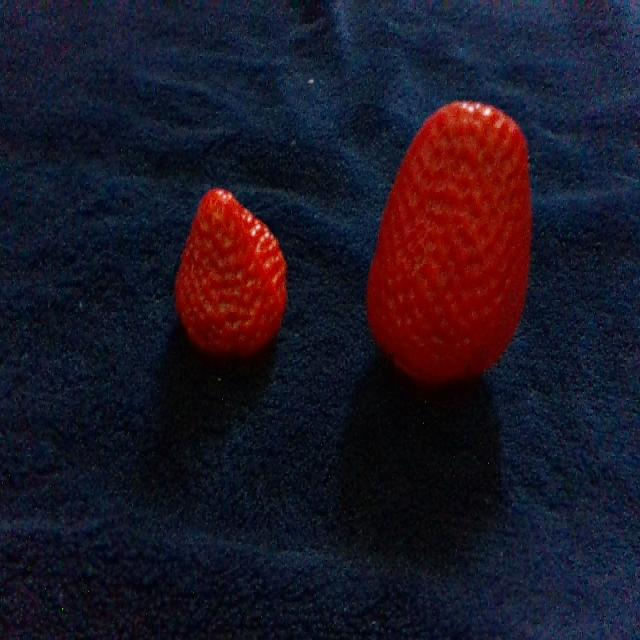chica_roja: (175, 189, 286, 353)
grande_roja: (367, 101, 531, 383)
